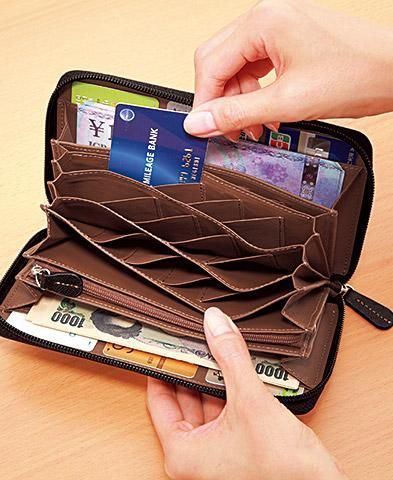monedero: (1, 68, 377, 417)
